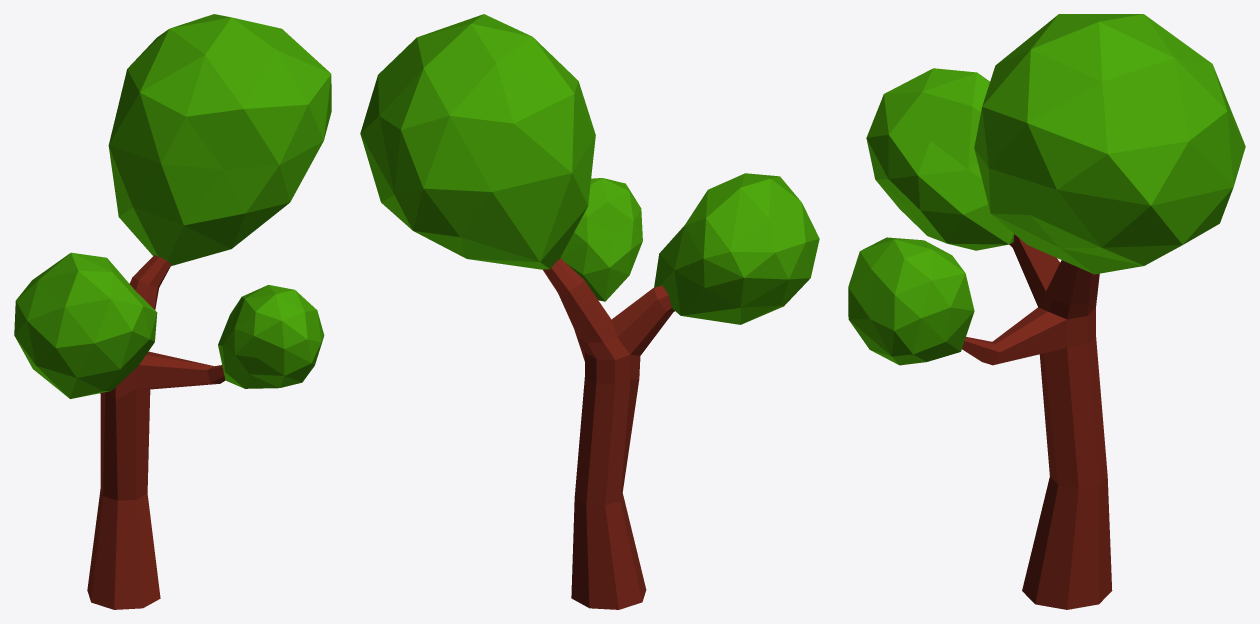
The model's file is low_poly_tree3.fbx.
The picture shows the model from 3 angles, left to right: view 1: azimuth 30°, elevation 25°; view 2: azimuth 150°, elevation 25°; view 3: azimuth 270°, elevation 25°; orthographic projection. The views are drawn at different scales.
Parts seen in each view (by area): view 1: Tree2; view 2: Tree2; view 3: Tree2.
Part boxes in pixels (left/top/right/bottom): Tree2: left=14, top=14, right=331, bottom=609; Tree2: left=360, top=14, right=819, bottom=609; Tree2: left=848, top=14, right=1245, bottom=609.
Size of the model in its own units: 353 by 513 by 289.
